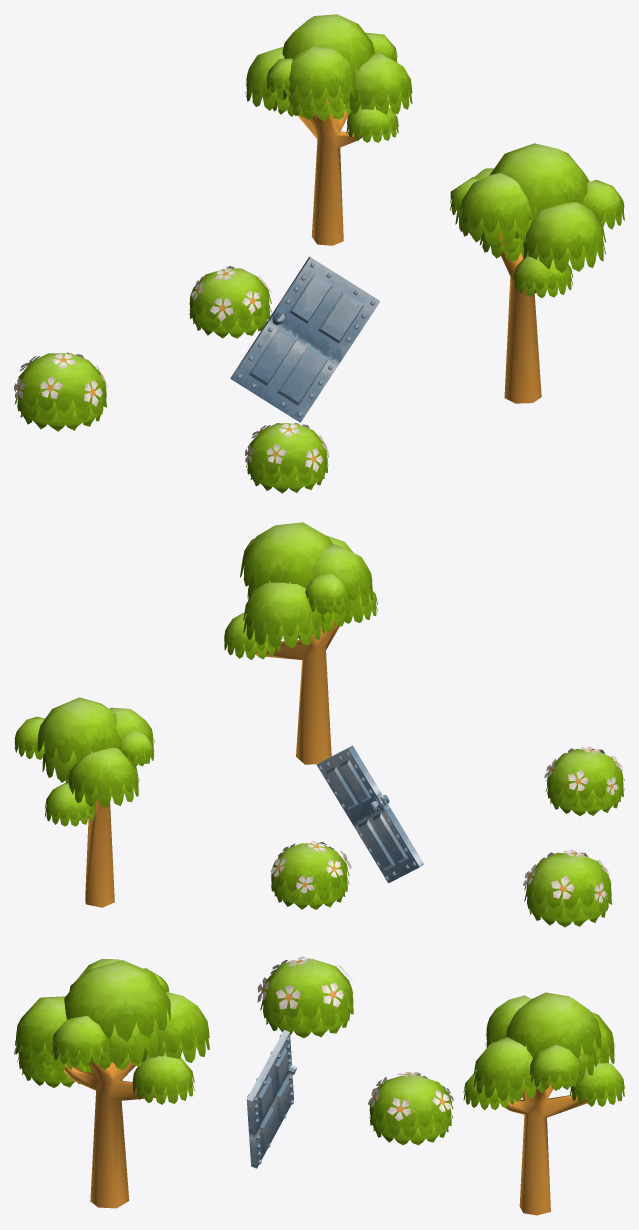
File: Layout_OutdoorArrangement02.gltf
3 views of the same model, one above another, from view 1: azimuth 30°, elevation 25°; view 2: azimuth 150°, elevation 25°; view 3: azimuth 270°, elevation 25° (orthographic). The views are drawn at different scales.
Parts seen in each view (by area): view 1: Obj_Tree.003, Obj_Tree.002, Obj_Door_004.001, Obj_Bush.004, Obj_Bush.003, Obj_Bush.005; view 2: Obj_Tree.003, Obj_Tree.002, Obj_Door_004.001, Obj_Bush.004, Obj_Bush.003, Obj_Bush.005; view 3: Obj_Tree.003, Obj_Tree.002, Obj_Bush.004, Obj_Bush.005, Obj_Door_004.001, Obj_Bush.003.
Boxes of the visible parts, x1,y1,x2,y2 form: Obj_Tree.003: (450, 143, 624, 403); Obj_Tree.002: (245, 14, 412, 245); Obj_Door_004.001: (230, 256, 380, 422); Obj_Bush.004: (14, 352, 107, 431); Obj_Bush.003: (245, 422, 329, 493); Obj_Bush.005: (189, 266, 271, 338); Obj_Tree.003: (224, 522, 377, 764); Obj_Tree.002: (14, 697, 154, 907); Obj_Door_004.001: (316, 745, 424, 883); Obj_Bush.004: (523, 849, 611, 927); Obj_Bush.003: (544, 746, 624, 815); Obj_Bush.005: (270, 841, 351, 909); Obj_Tree.003: (16, 959, 209, 1208); Obj_Tree.002: (463, 992, 624, 1215); Obj_Bush.004: (257, 956, 353, 1038); Obj_Bush.005: (368, 1072, 453, 1145); Obj_Door_004.001: (246, 1029, 296, 1168); Obj_Bush.003: (14, 1040, 92, 1087).
Size of what is drawn, in the model's own units: 14.94 by 8.12 by 15.68.
1 material, 1 textured.
